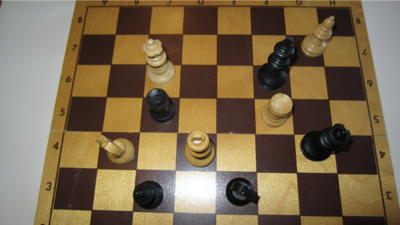black-bishop: (133, 181, 164, 211)
black-king: (258, 36, 296, 91)
black-queen: (300, 123, 353, 163)
black-rook: (146, 88, 177, 124)
white-bishop: (301, 16, 336, 58)
white-king: (185, 129, 216, 168)
white-knight: (96, 134, 136, 166), (226, 178, 259, 207)
white-queen: (142, 39, 177, 86)
white-rook: (260, 93, 294, 129)
